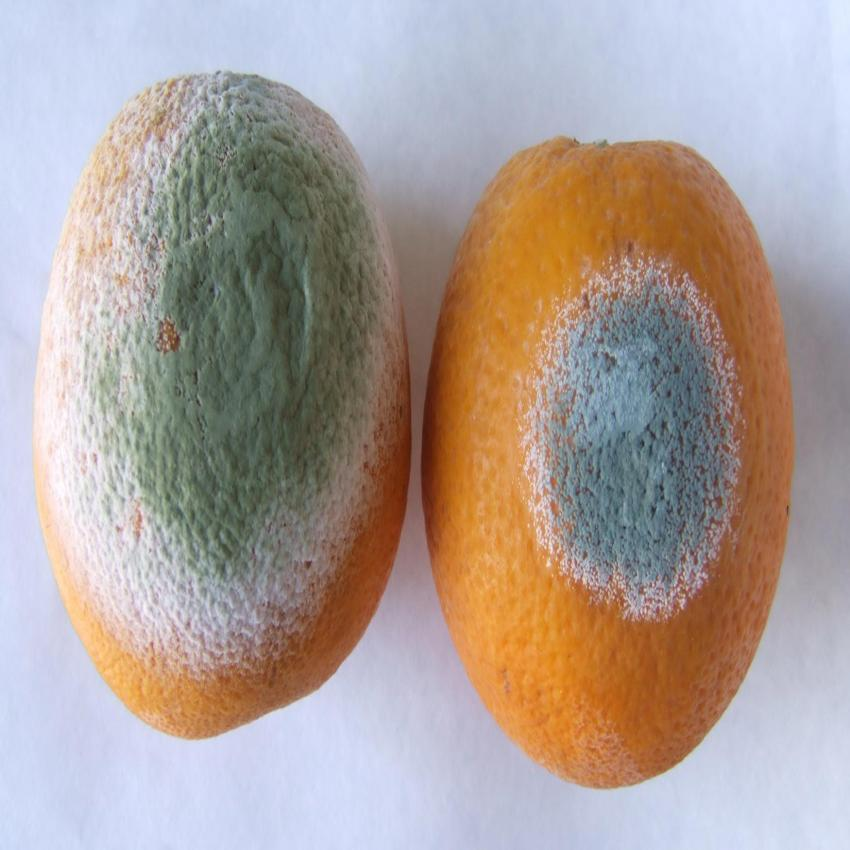Mal estado: (15, 46, 420, 748), (415, 92, 798, 796)
